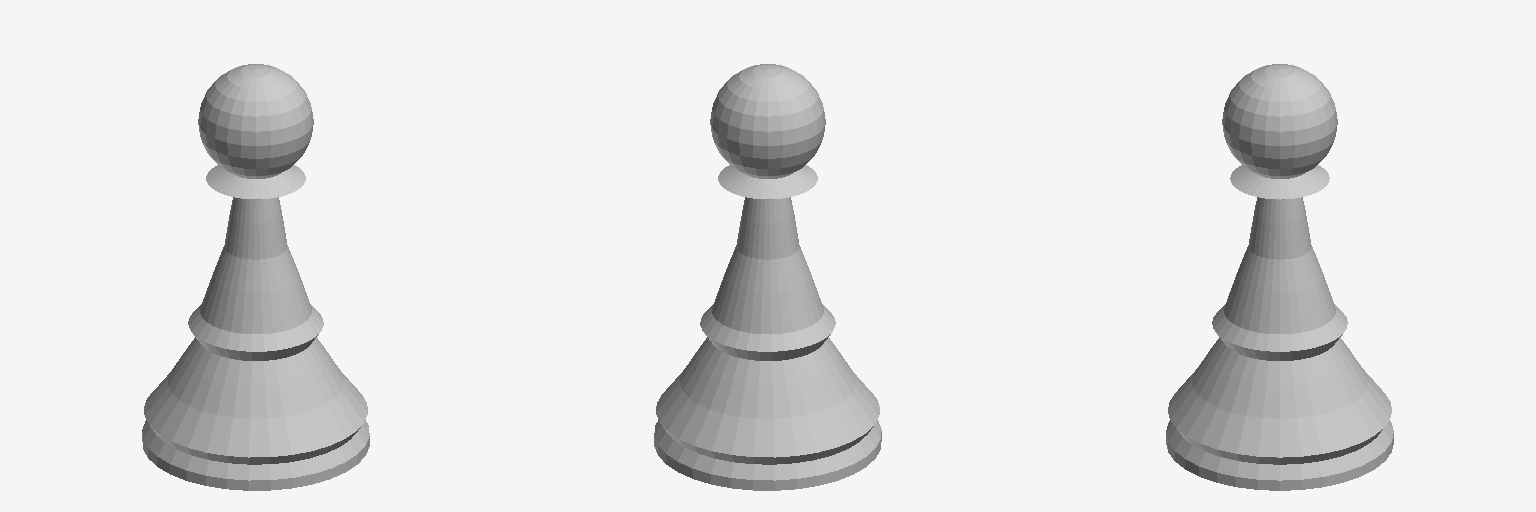
The model's file is pawn.obj.
3 views of the same model, side by side, from view 1: azimuth 30°, elevation 25°; view 2: azimuth 150°, elevation 25°; view 3: azimuth 270°, elevation 25° (orthographic).
Parts seen in each view (by area): view 1: Cylinder; view 2: Cylinder; view 3: Cylinder.
Part boxes in pixels (x1,y1,x2,y2): Cylinder: (142, 64, 369, 490); Cylinder: (654, 64, 881, 490); Cylinder: (1166, 64, 1393, 490).
Bounding box in the file's own units: 2 × 3.62 × 2.